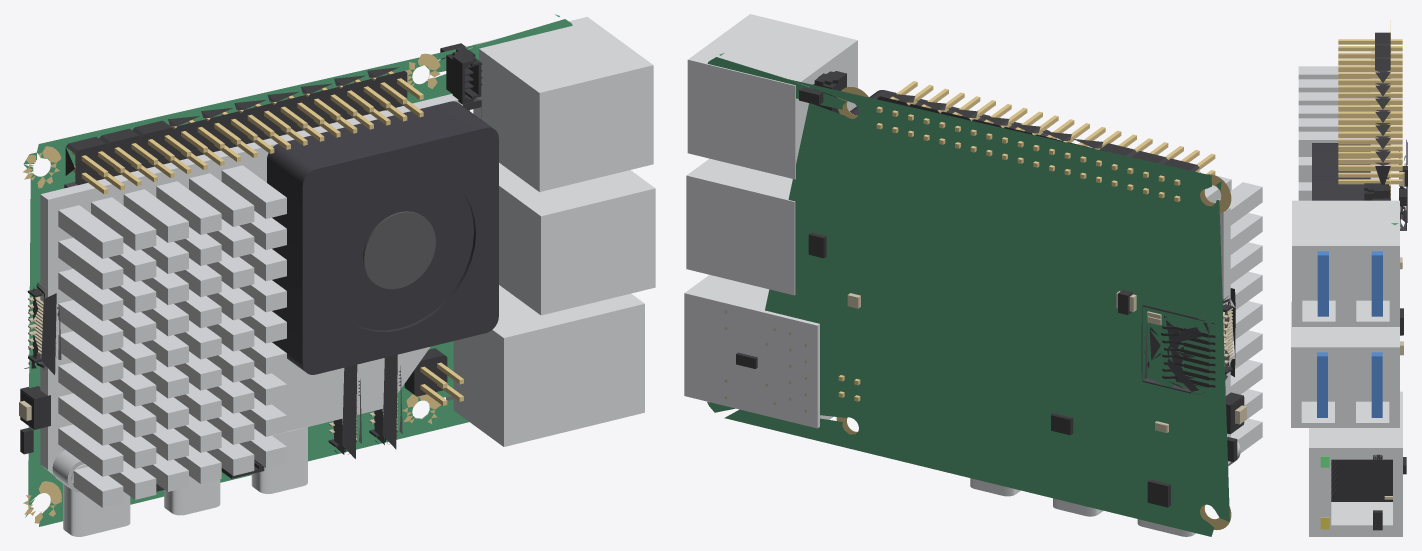
The model's file is payload_computer.glb.
3 renders of one model, left to right at view 1: azimuth 30°, elevation 25°; view 2: azimuth 150°, elevation 25°; view 3: azimuth 270°, elevation 25°, orthographic. The views are drawn at different scales.
Visible parts, largest first — view 1: c_c6c9ce, c_ccced3, c_0f0f11, black_plastic, c_196b38, gold, c_1e1e21, c_19191c, c_b29e72; view 2: c_196b38, c_ccced3, black_plastic, c_c6c9ce, gold, ic, c_b29e72; view 3: c_ccced3, gold, black_plastic, c_c6c9ce, c_194cbf, c_0f0f11, ic, c_b29e72.
Boxes of the visible parts, x1,y1,x2,y2 form: c_c6c9ce: (40,94,462,507); c_ccced3: (63,16,655,536); c_0f0f11: (267,101,498,374); black_plastic: (20,43,482,491); c_196b38: (23,14,572,526); gold: (23,53,463,523); c_1e1e21: (363,211,435,289); c_19191c: (31,286,402,454); c_b29e72: (19,296,397,440); c_196b38: (707,53,1229,536); c_ccced3: (684,14,1195,536); black_plastic: (736,71,1244,507); c_c6c9ce: (1087,146,1262,464); gold: (836,81,1231,530); ic: (1141,305,1214,394); c_b29e72: (724,291,1246,432); c_ccced3: (1291,200,1402,536); gold: (1338,20,1402,200); black_plastic: (1331,32,1407,530); c_c6c9ce: (1298,51,1379,200); c_194cbf: (1317,251,1382,417); c_0f0f11: (1312,143,1370,200); ic: (1384,72,1407,230); c_b29e72: (1384,163,1406,499).
Bounding box in the file's own units: 0.0887 × 0.0576 × 0.019.
